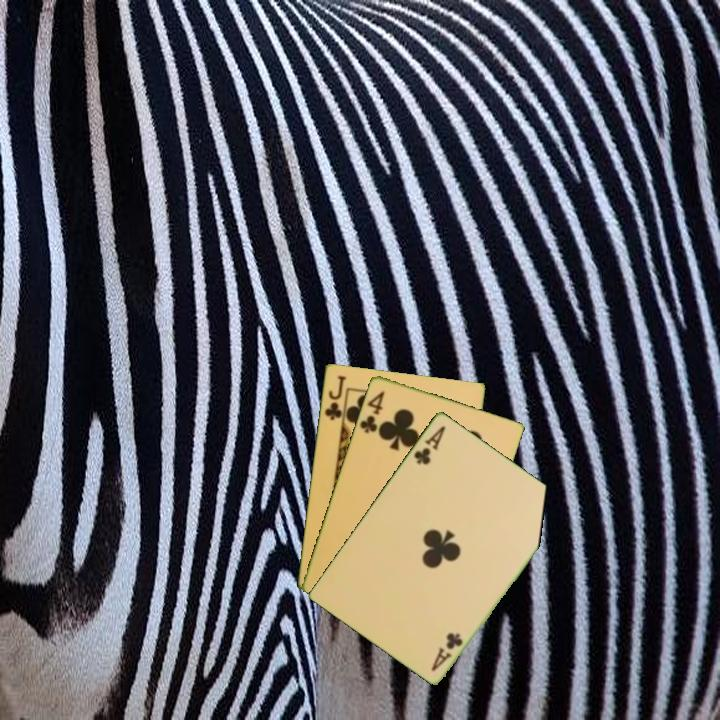4c: (356, 386, 387, 436)
Ac: (427, 628, 466, 674), (410, 421, 448, 467)
Jc: (321, 372, 348, 423)
